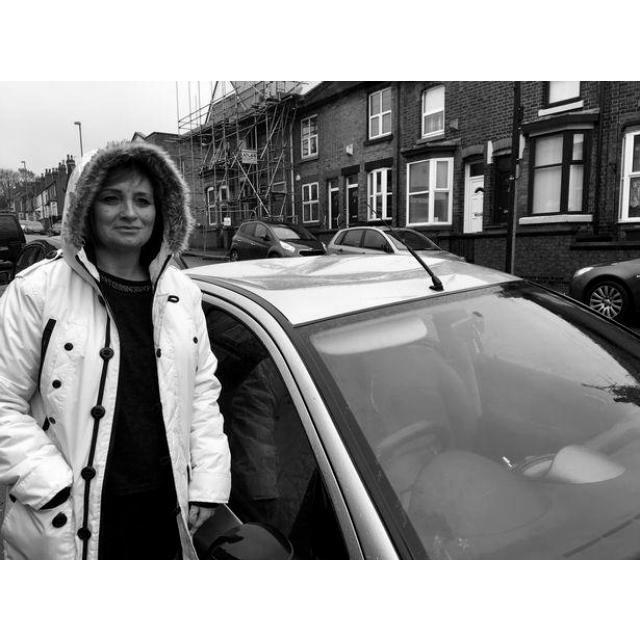roof-dent: (221, 243, 412, 298)
